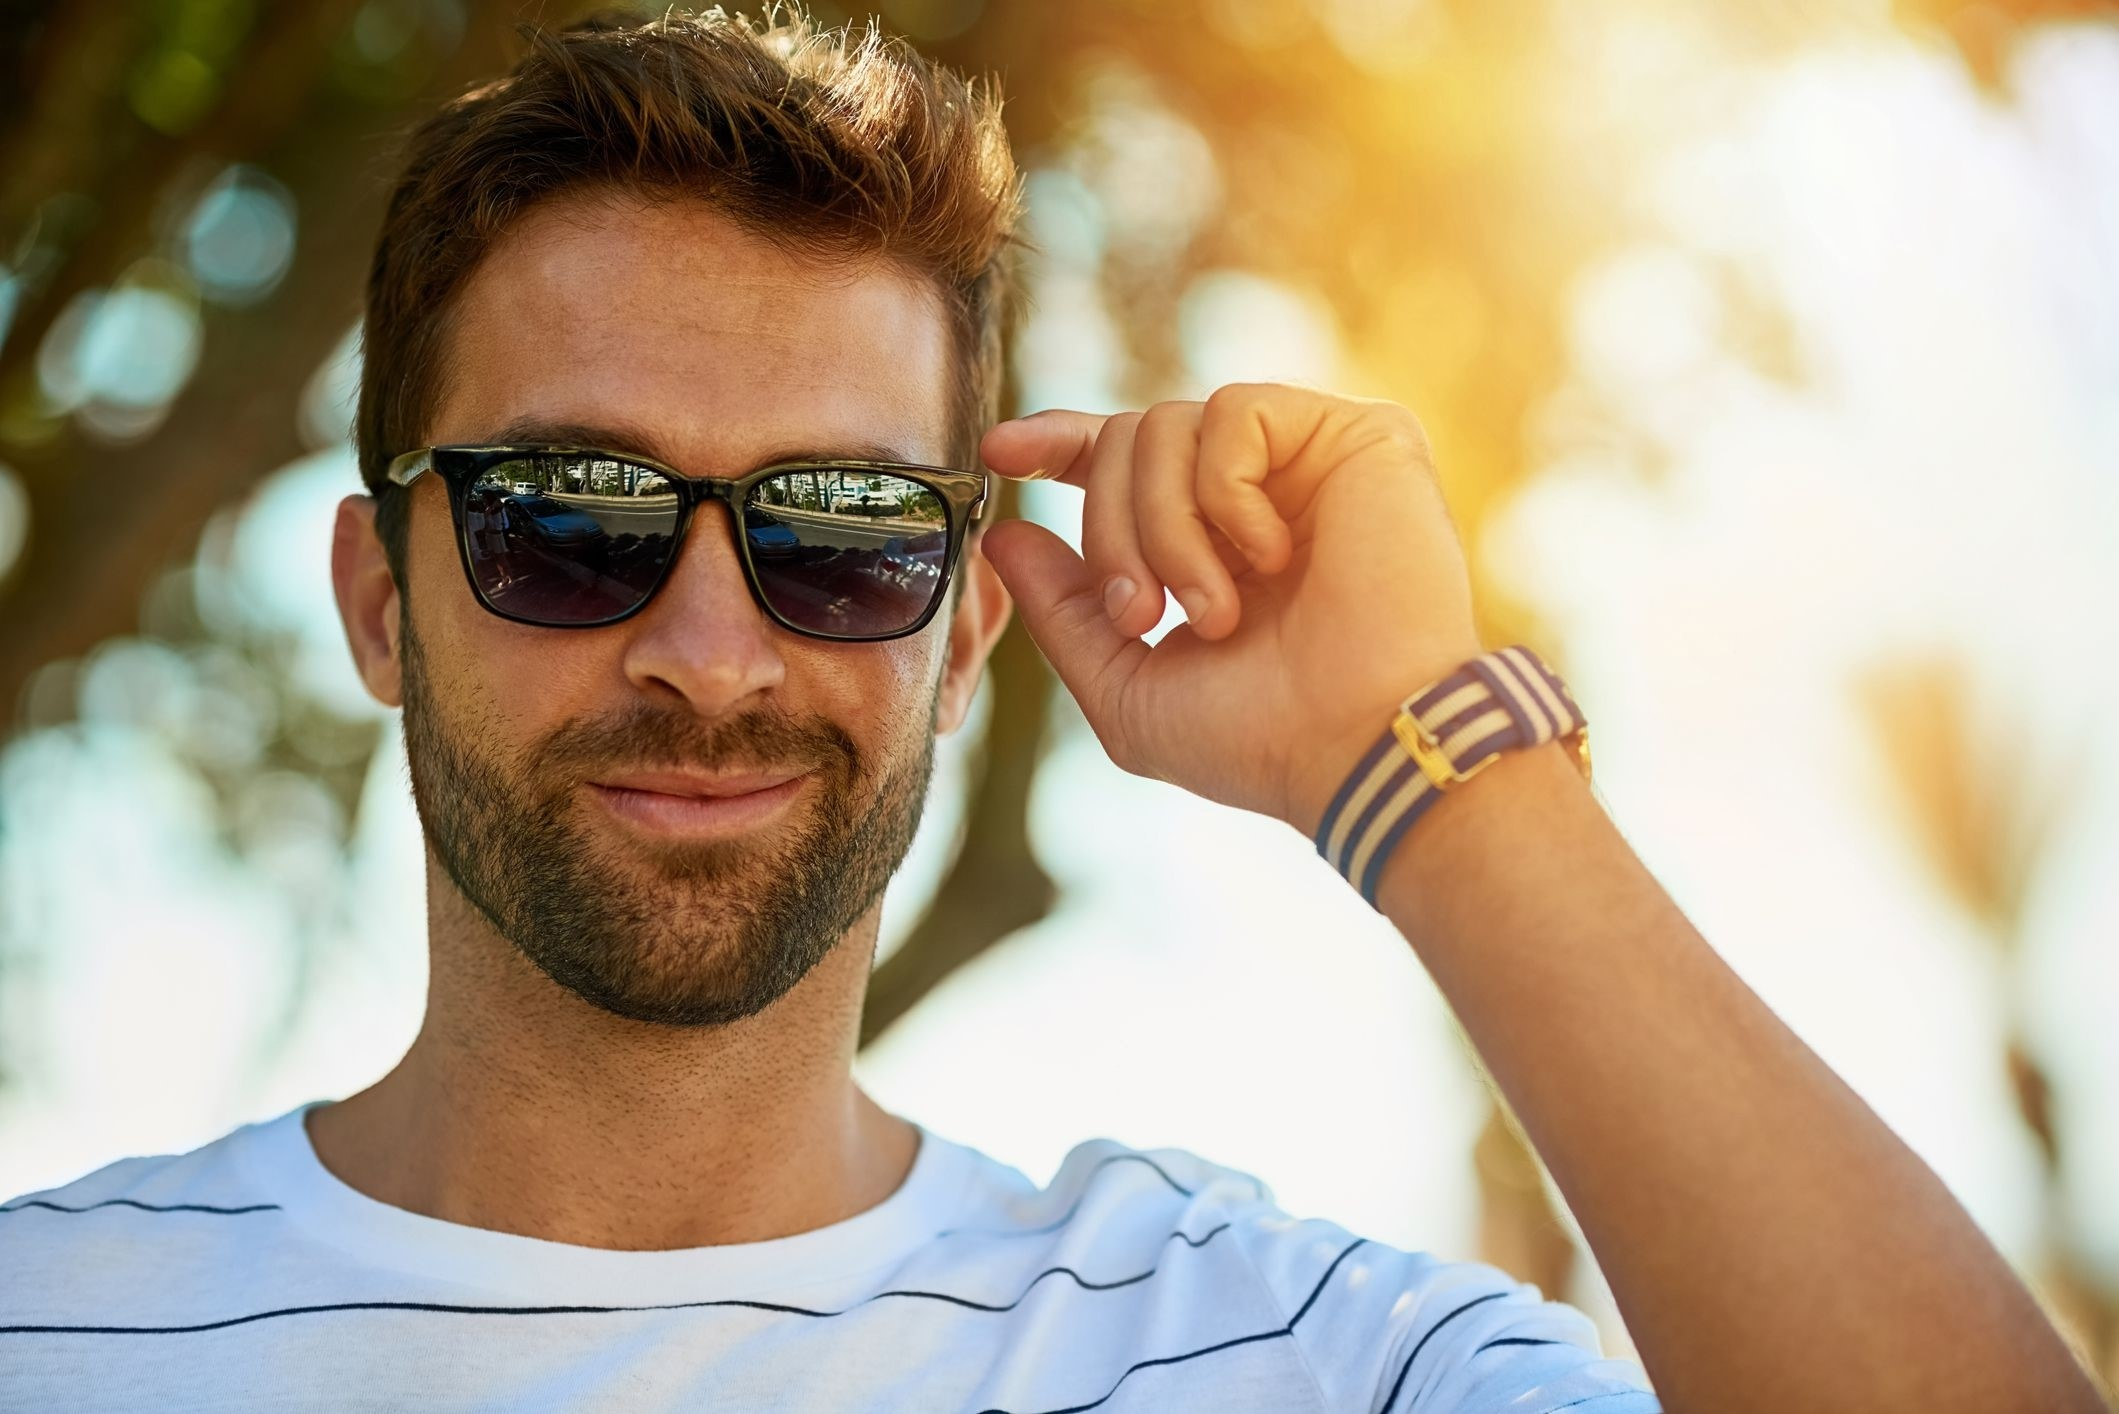face_no_mask: (366, 67, 1021, 1037)
